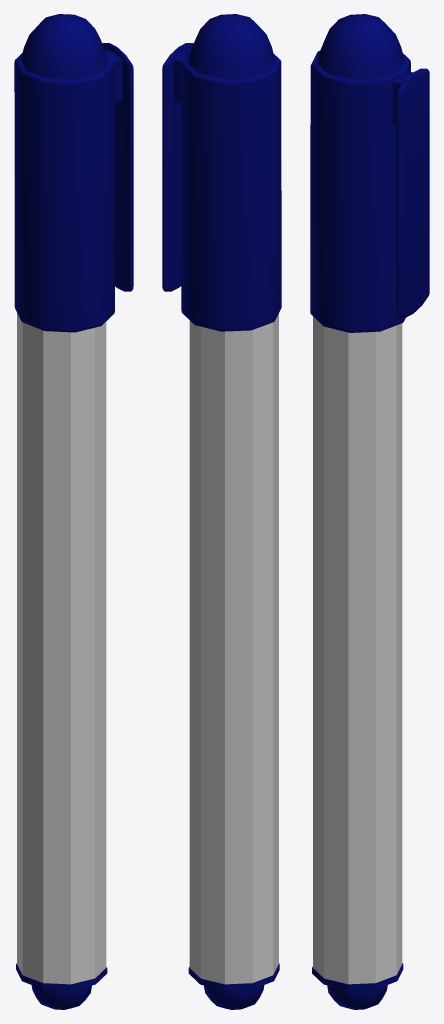
The model's file is Marker.fbx.
3 views of the same model, side by side, from view 1: azimuth 30°, elevation 25°; view 2: azimuth 150°, elevation 25°; view 3: azimuth 330°, elevation 25° (orthographic).
Parts seen in each view (by area): view 1: Cylinder001, ChamferBox001, Cylinder003; view 2: Cylinder001, ChamferBox001, Cylinder003; view 3: Cylinder001, ChamferBox001, Cylinder003.
Boxes of the visible parts, box(x1,y1,x2,y2) form: Cylinder001: box(17, 313, 106, 984); ChamferBox001: box(14, 14, 133, 332); Cylinder003: box(16, 963, 107, 1009); Cylinder001: box(189, 313, 278, 984); ChamferBox001: box(162, 14, 281, 331); Cylinder003: box(188, 963, 279, 1009); Cylinder001: box(313, 316, 402, 984); ChamferBox001: box(310, 14, 429, 332); Cylinder003: box(312, 963, 403, 1009).
Size of the model in its own units: 1.47 by 14.17 by 1.25.
